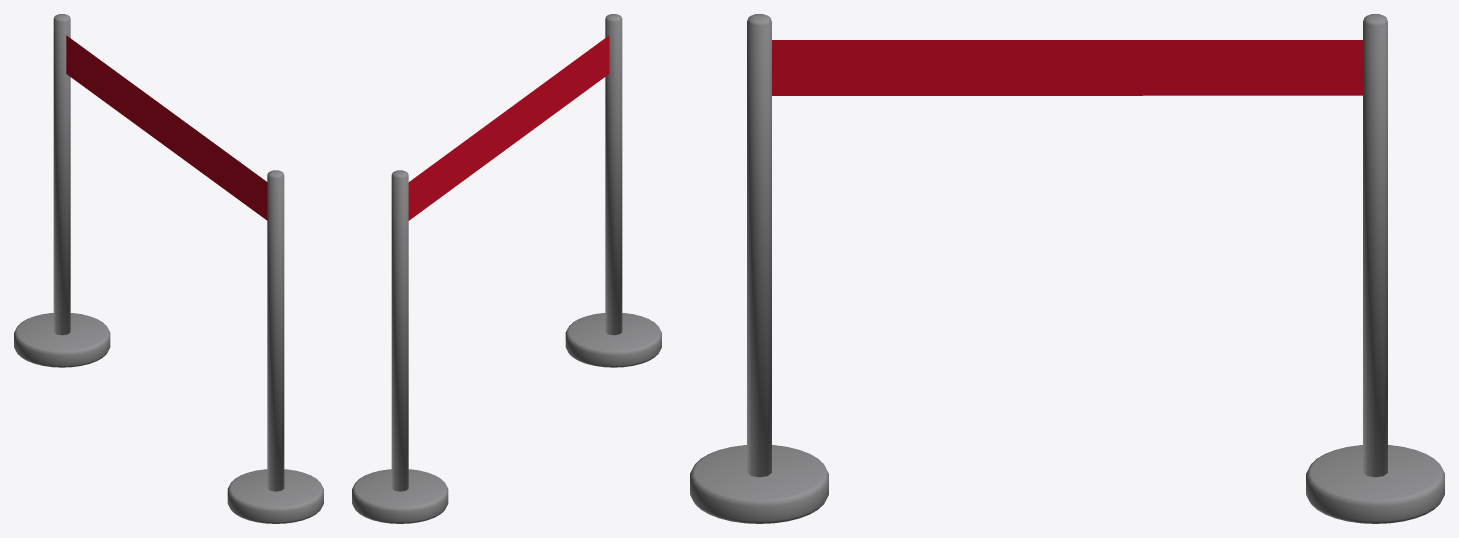
Rendered from pinch-barrier-red-narrow.gltf.
3 renders of one model, left to right at view 1: azimuth 30°, elevation 25°; view 2: azimuth 150°, elevation 25°; view 3: azimuth 270°, elevation 25°, orthographic. The views are drawn at different scales.
Parts seen in each view (by area): view 1: pipe003 (×2), bottom004 (×2), Box2; view 2: pipe003 (×2), bottom004 (×2), Box2; view 3: Box2, pipe003 (×2), bottom004 (×2).
Part boxes in pixels (x1,y1,x2,y2): pipe003 (×2): (53, 14, 284, 491); bottom004 (×2): (14, 313, 323, 523); Box2: (66, 35, 267, 220); pipe003 (×2): (391, 14, 622, 491); bottom004 (×2): (352, 313, 661, 523); Box2: (408, 35, 609, 220); Box2: (772, 40, 1362, 95); pipe003 (×2): (747, 14, 1387, 477); bottom004 (×2): (690, 445, 1444, 523).
Size of what is drawn, in the model's own units: 0.2267 by 0.8582 by 1.23.
